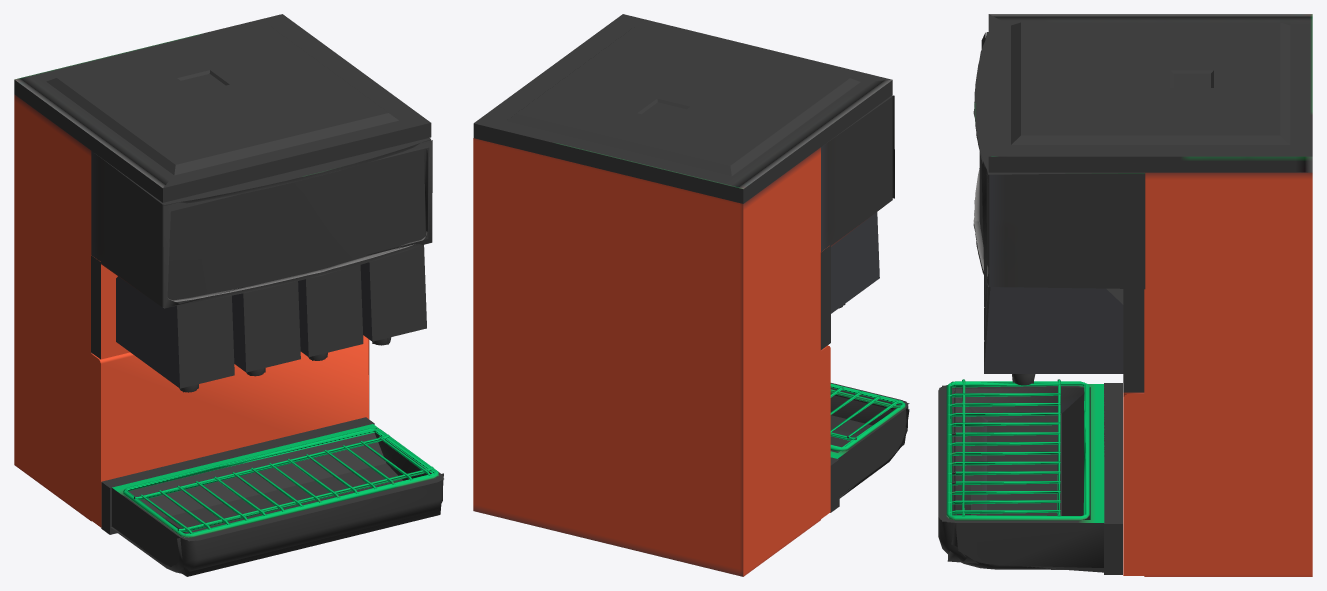
File: soda_machine.fbx
The picture shows the model from 3 angles, left to right: view 1: azimuth 30°, elevation 25°; view 2: azimuth 150°, elevation 25°; view 3: azimuth 270°, elevation 25°; orthographic projection. The views are drawn at different scales.
Visible parts, largest first — view 1: SM_Fazs_lod_1, SM_Fazs_lod_1.001; view 2: SM_Fazs_lod_1, SM_Fazs_lod_1.001; view 3: SM_Fazs_lod_1, SM_Fazs_lod_1.001.
Boxes of the visible parts, x1,y1,x2,y2 form: SM_Fazs_lod_1: (14,14,443,573); SM_Fazs_lod_1.001: (91,138,443,576); SM_Fazs_lod_1: (473,14,908,576); SM_Fazs_lod_1.001: (507,95,909,517); SM_Fazs_lod_1: (938,14,1312,576); SM_Fazs_lod_1.001: (942,26,1289,575).
Bounding box in the file's own units: 67.74 × 93.76 × 74.53.
